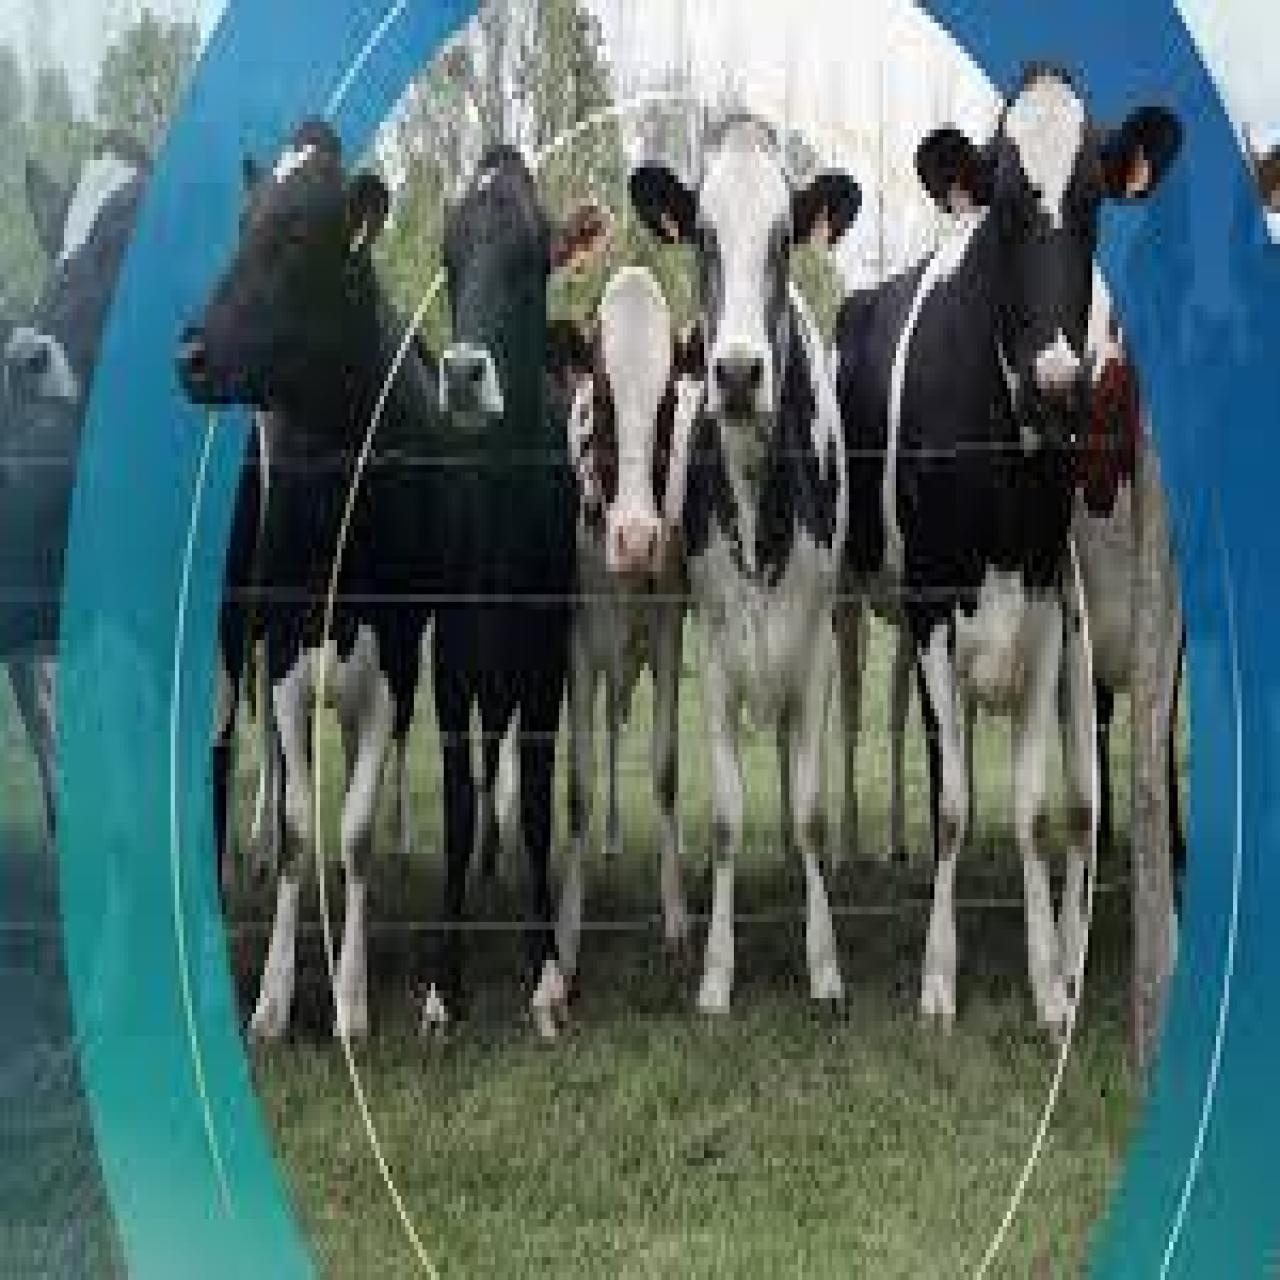cow: (845, 76, 1182, 1051), (182, 148, 437, 1063), (622, 122, 866, 1021), (414, 148, 622, 1063), (536, 263, 715, 972)
